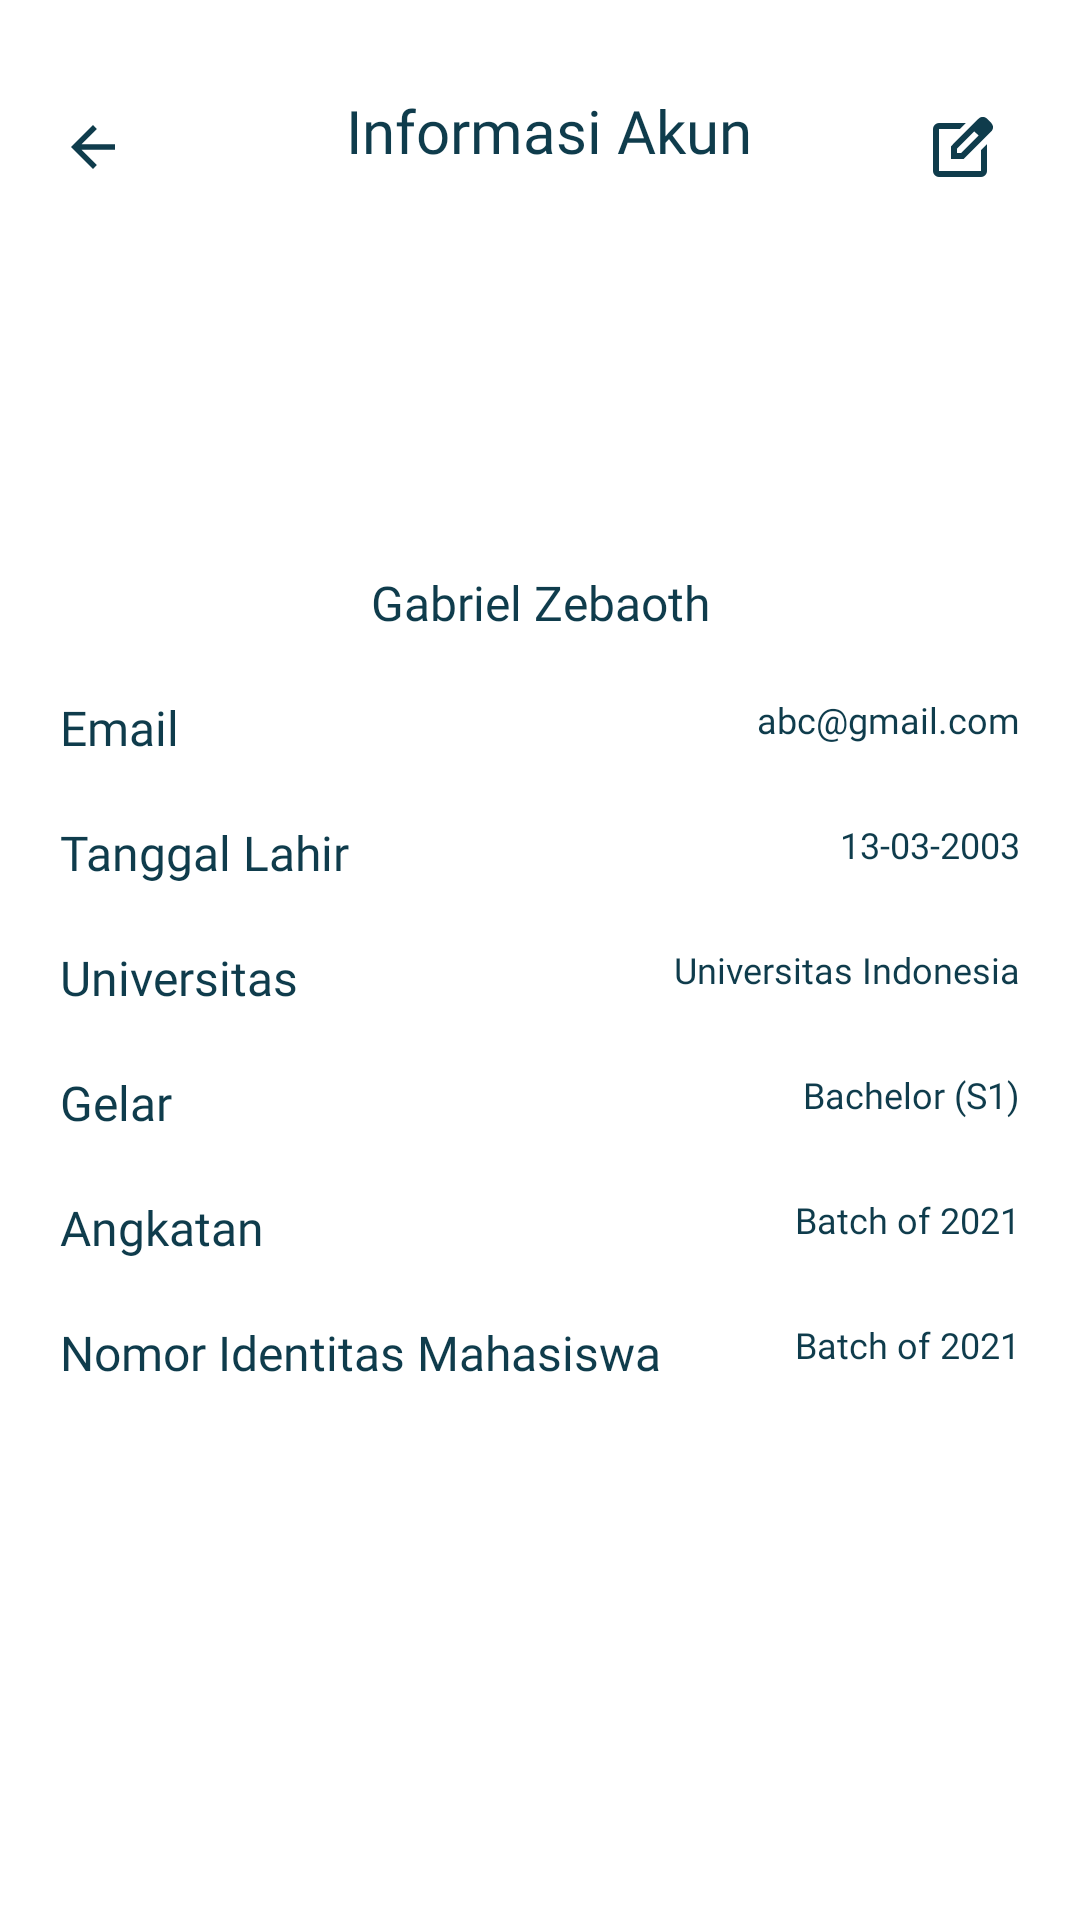

Named icons in this screenshot (1080w x 1920h) and their bounding boxes, (x1,y1,x2,y2):
arrow back: (71,125,115,169)
edit: (933,117,993,177)
